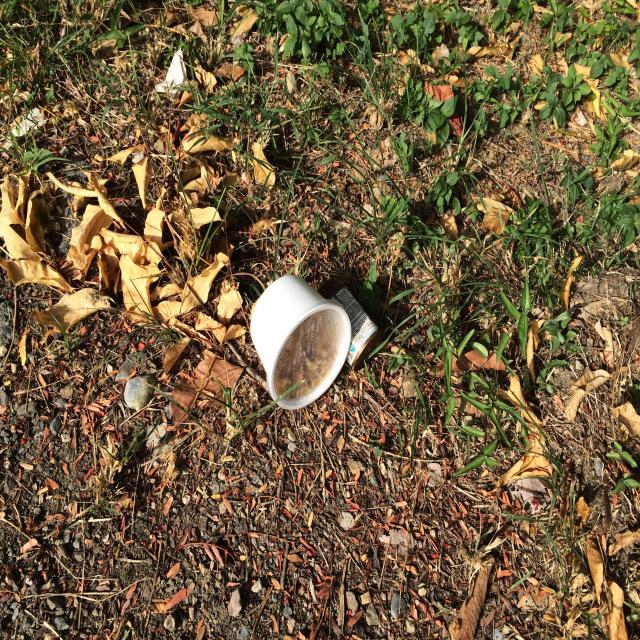litter: (244, 265, 353, 410)
